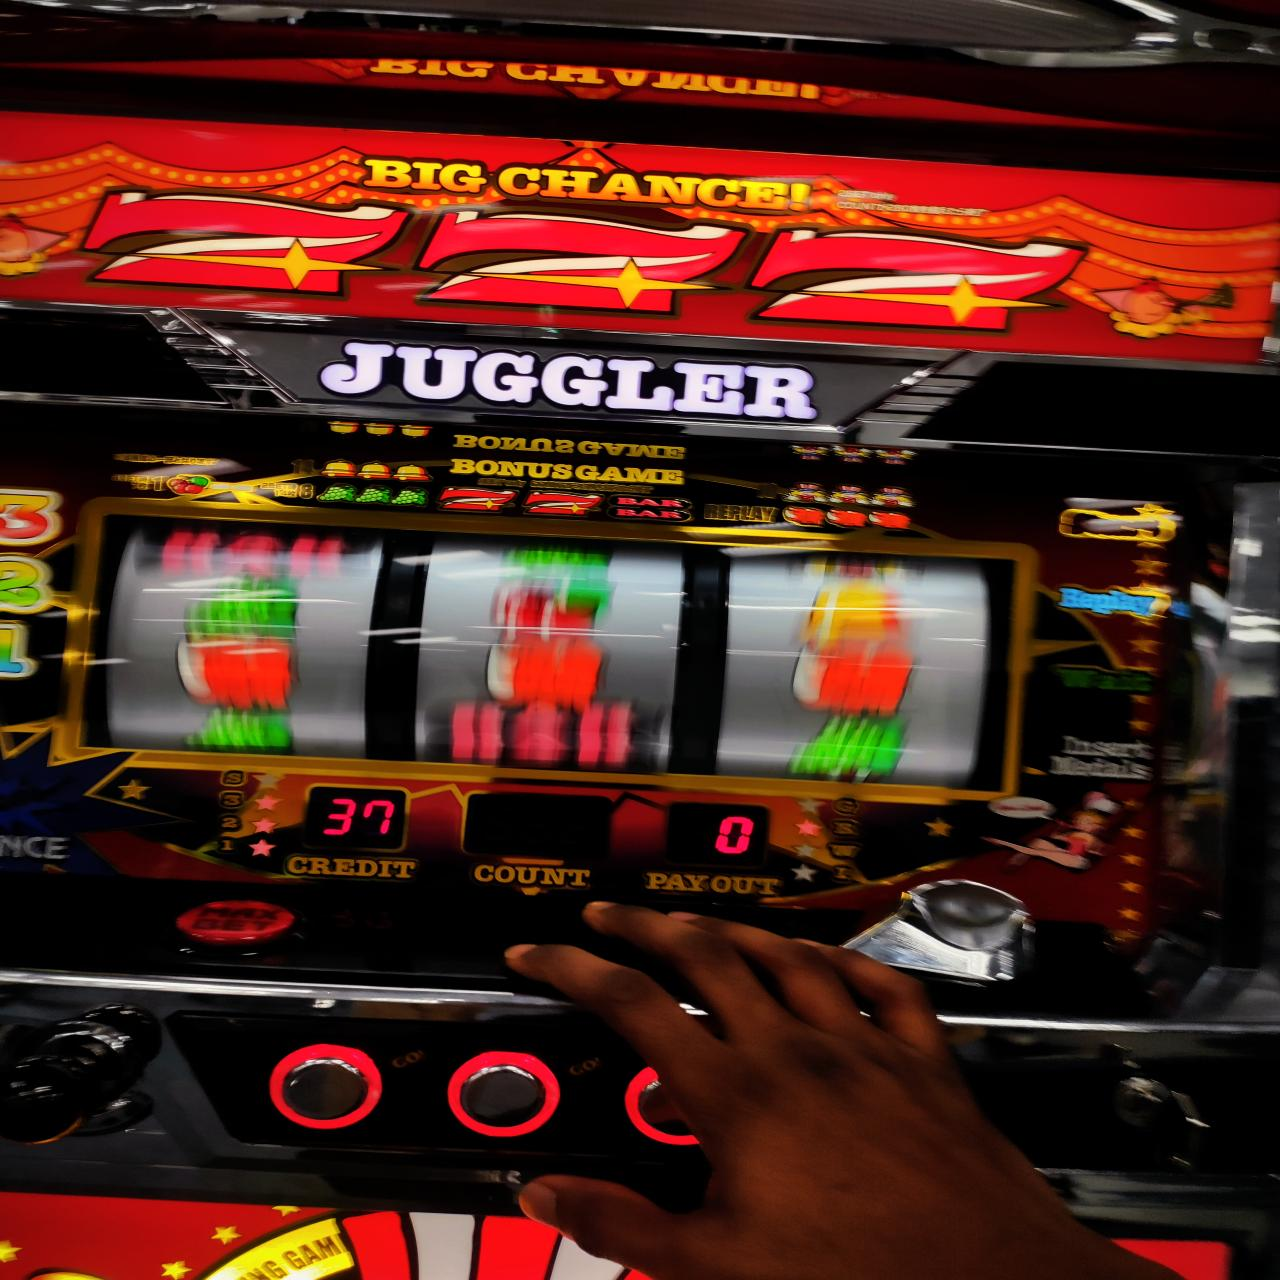rhino: (100, 512, 1014, 792)
